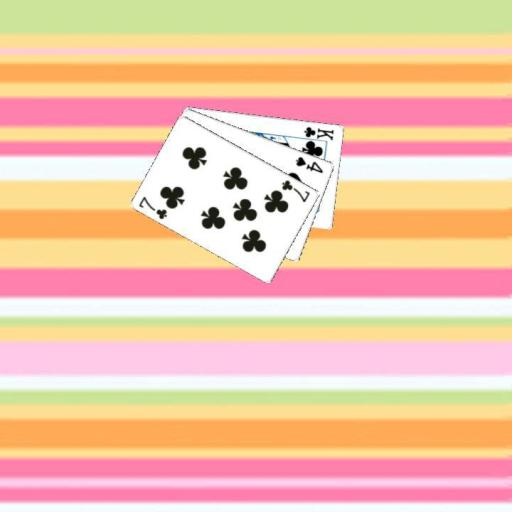4S: (293, 154, 325, 174)
7C: (136, 194, 169, 221), (279, 177, 311, 204)
KC: (297, 123, 335, 144)
